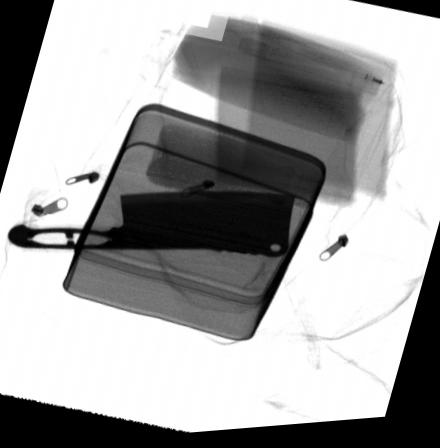Knife: (7, 193, 297, 263)
